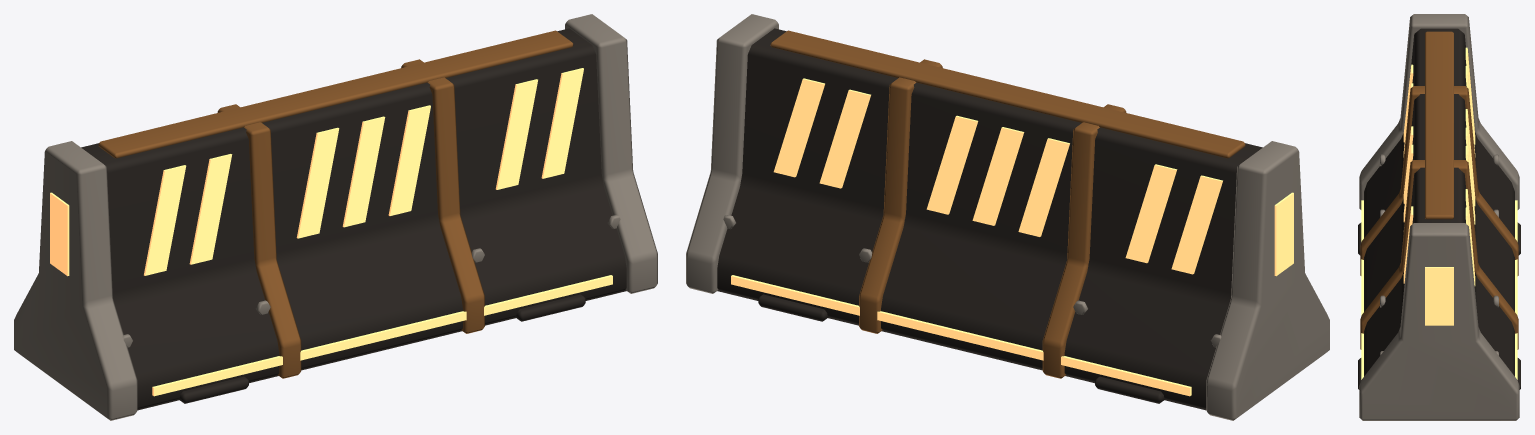
File: prop_barrier.glb
3 renders of one model, left to right at view 1: azimuth 30°, elevation 25°; view 2: azimuth 150°, elevation 25°; view 3: azimuth 270°, elevation 25°, orthographic. The views are drawn at different scales.
Visible parts, largest first — view 1: body; view 2: body; view 3: body.
Part boxes in pixels (bbox=[...]): body: bbox=[14, 14, 657, 420]; body: bbox=[686, 14, 1329, 420]; body: bbox=[1358, 14, 1520, 420].
Bounding box in the file's own units: 1.81 × 0.715 × 0.56.
